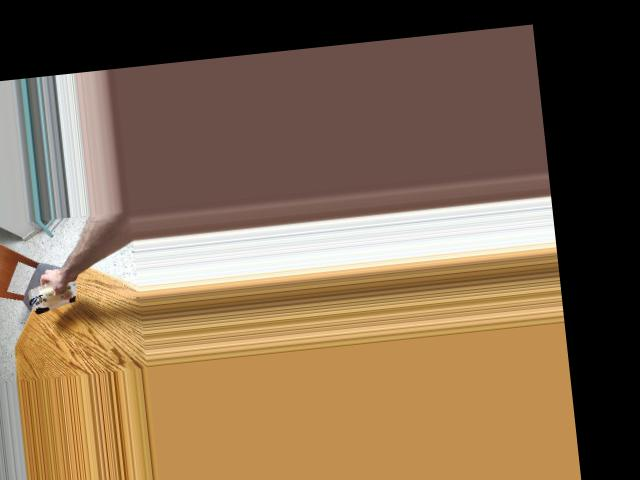cheese: (29, 278, 79, 314)
